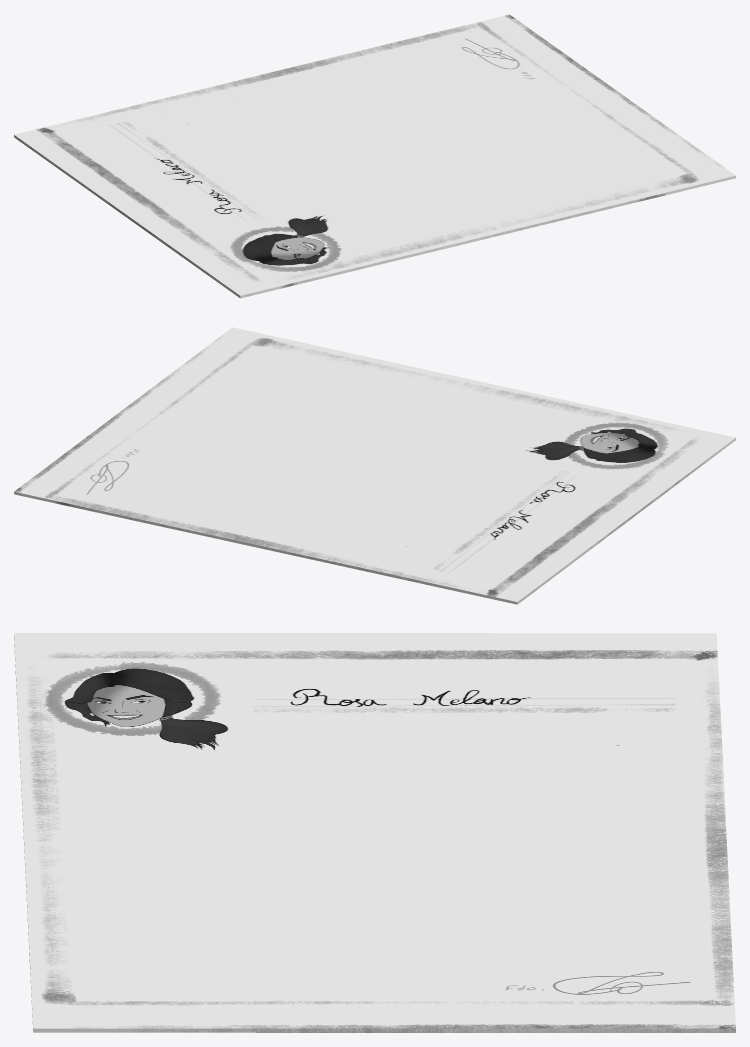
Rendered from rosa 1.fbx.
The picture shows the model from 3 angles, top to bottom: view 1: azimuth 30°, elevation 25°; view 2: azimuth 150°, elevation 25°; view 3: azimuth 270°, elevation 25°; orthographic projection. The views are drawn at different scales.
Visible parts, largest first — view 1: paper.004; view 2: paper.004; view 3: paper.004.
Part boxes in pixels (x1=…): paper.004: x1=14, y1=14, x2=735, y2=298; paper.004: x1=14, y1=327, x2=735, y2=604; paper.004: x1=14, y1=633, x2=735, y2=1032.
Bounding box in the file's own units: 79.36 × 1.64 × 62.51.
Materials: 1 (1 with a texture image).
